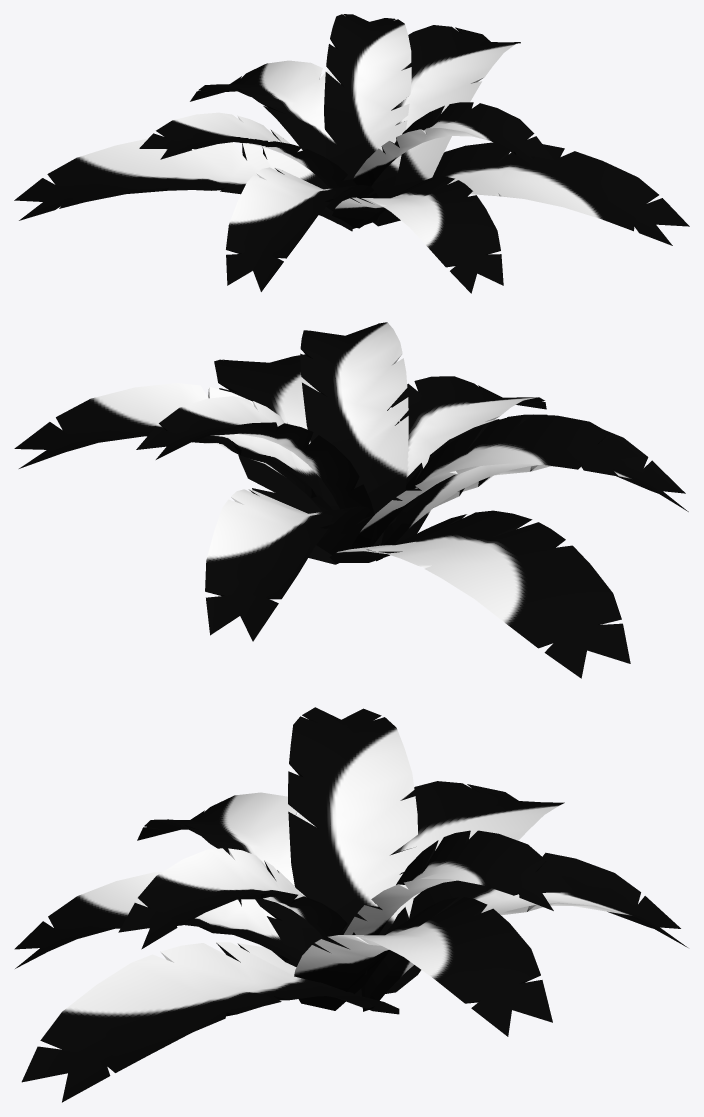
Rendered from grass1.FBX.
3 renders of one model, top to bottom at view 1: azimuth 30°, elevation 25°; view 2: azimuth 150°, elevation 25°; view 3: azimuth 270°, elevation 25°, orthographic. The views are drawn at different scales.
Parts seen in each view (by area): view 1: Object049; view 2: Object049; view 3: Object049.
Boxes of the visible parts, x1,y1,x2,y2 form: Object049: (14,14,689,293); Object049: (14,322,688,678); Object049: (14,707,687,1102).
Size of the model in its own units: 106 by 29.75 by 96.51.
